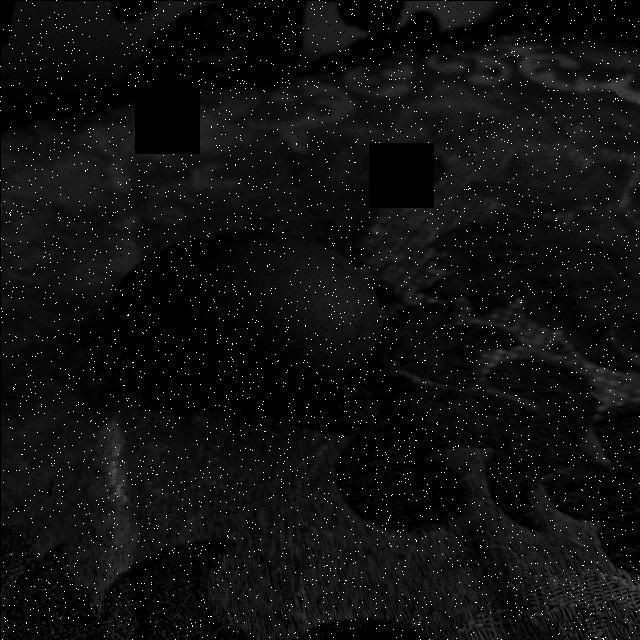egg: (109, 228, 382, 399)
